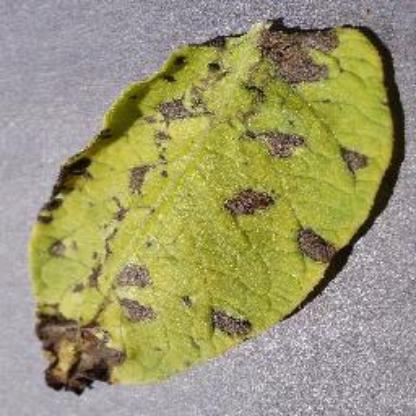Early-Blight: (25, 15, 416, 396)
